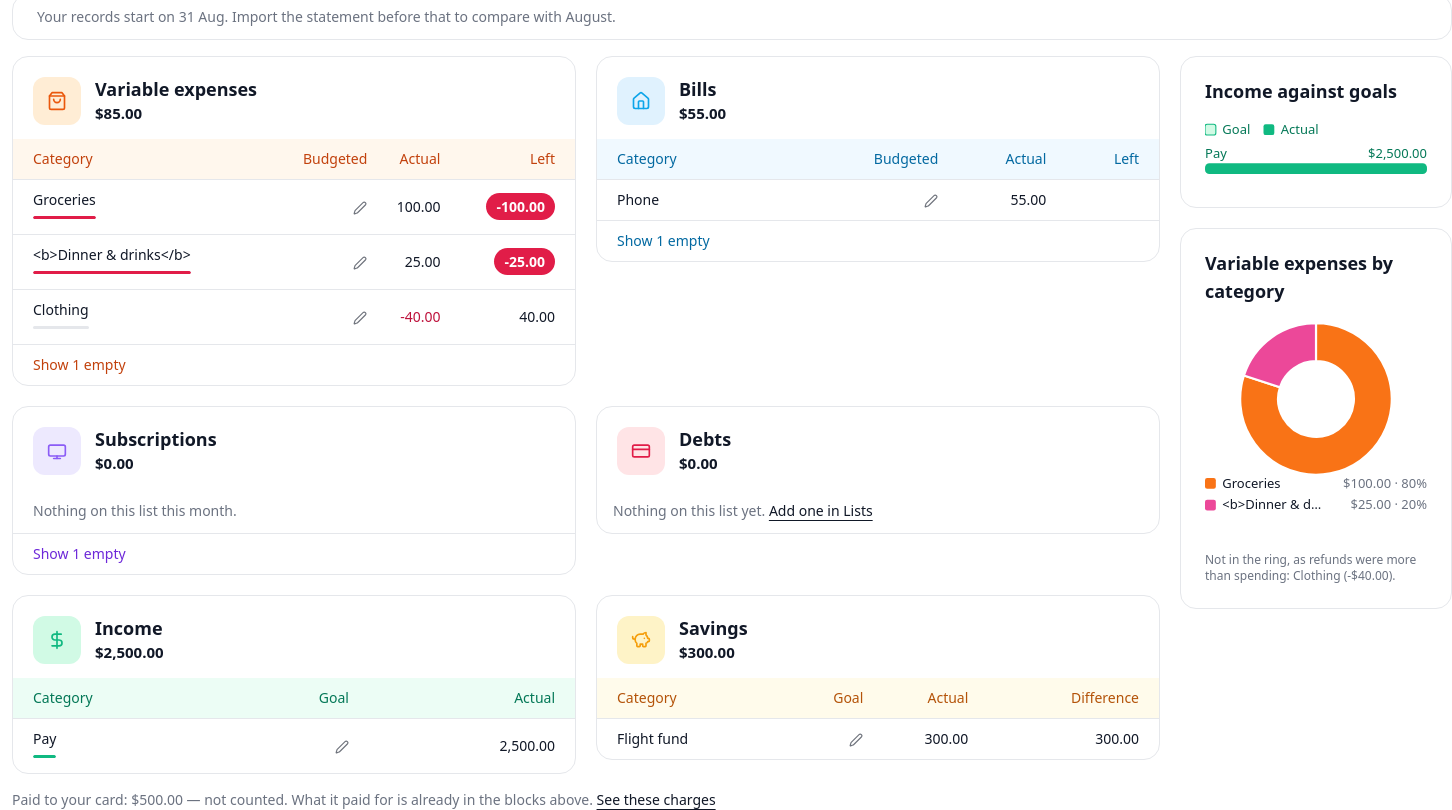
Test case: MonthScreen blocks › says a list has nothing this month when every row is folded, with no table head over no rows (V9)
(page scrolled)
expect the text "Nothing on this list this month." is shown: met, box [33,501,237,520]
Click the button "Show 1 empty" below "this month" at (79, 553), box [13,533,575,574]
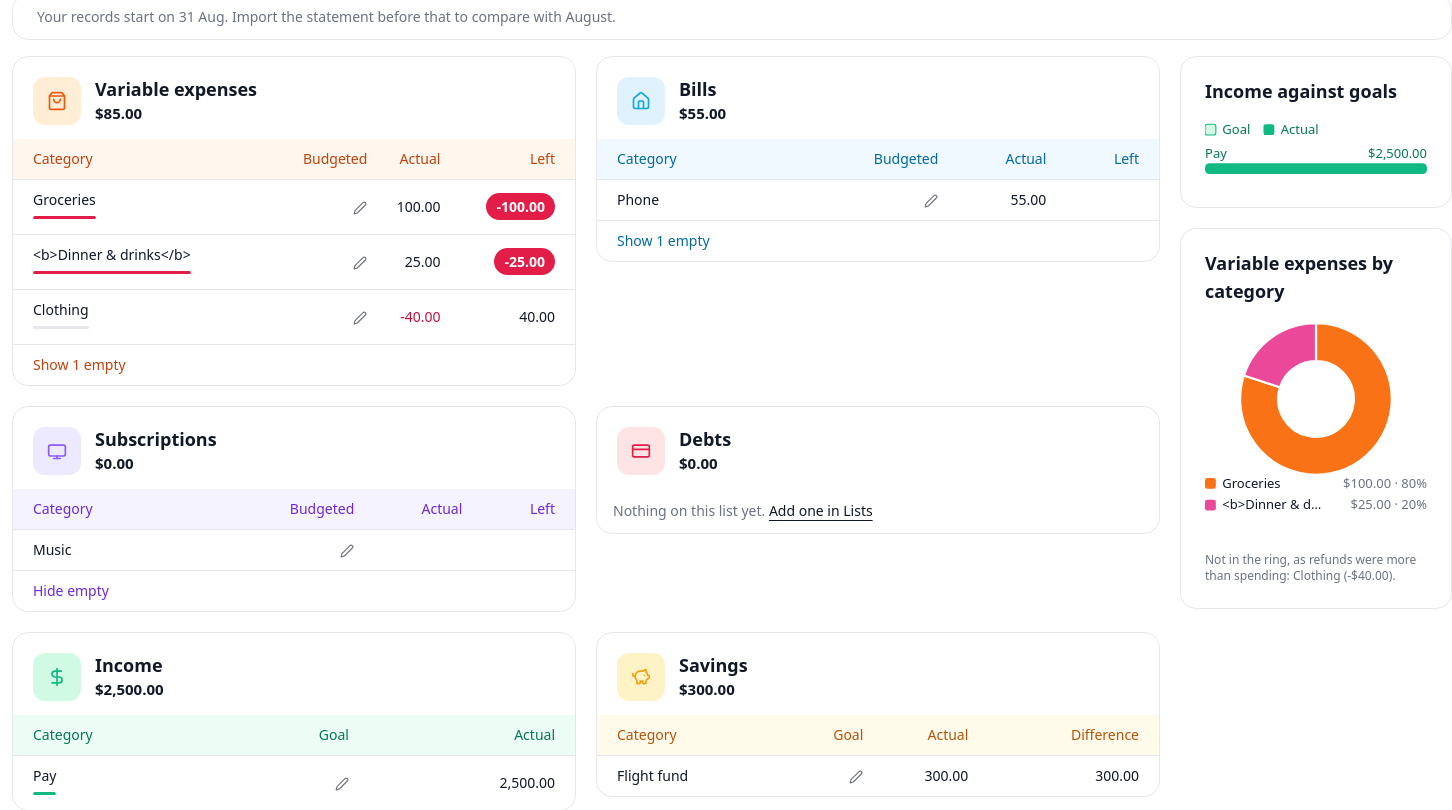
expect the column heading "Music" is shown: met, box [13,529,198,570]
expect the text "Nothing on this list this month." is gone: met
